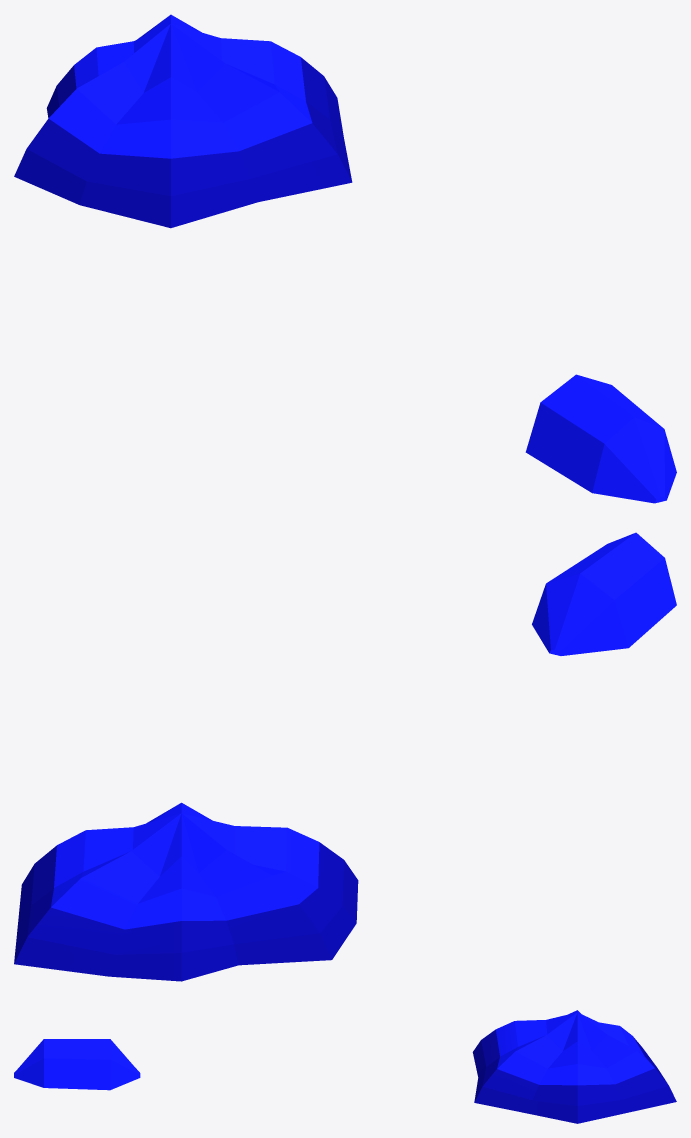
The model's file is shot_ice_153.glb.
3 views of the same model, one above another, from view 1: azimuth 30°, elevation 25°; view 2: azimuth 150°, elevation 25°; view 3: azimuth 270°, elevation 25° (orthographic). The views are drawn at different scales.
Parts seen in each view (by area): view 1: shot_ice_153_cap, shot_ice_153_trail; view 2: shot_ice_153_cap, shot_ice_153_trail; view 3: shot_ice_153_cap, shot_ice_153_trail.
Boxes of the visible parts, x1,y1,x2,y2 form: shot_ice_153_cap: [14, 14, 352, 228]; shot_ice_153_trail: [525, 374, 676, 503]; shot_ice_153_cap: [14, 802, 358, 981]; shot_ice_153_trail: [532, 532, 676, 655]; shot_ice_153_cap: [472, 1010, 676, 1123]; shot_ice_153_trail: [14, 1039, 140, 1090].
Bounding box in the file's own units: 3.2 × 1.09 × 9.98.
